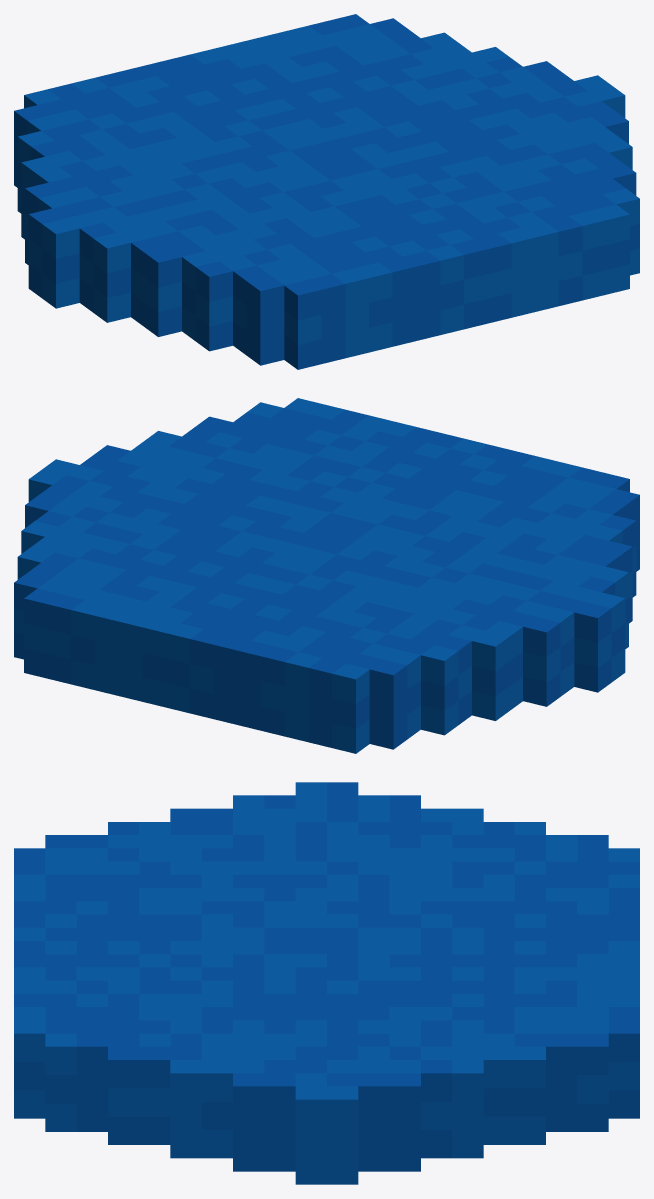
Rendered from overworld-38-ocean_3px.obj.
3 views of the same model, one above another, from view 1: azimuth 30°, elevation 25°; view 2: azimuth 150°, elevation 25°; view 3: azimuth 270°, elevation 25° (orthographic). The views are drawn at different scales.
Visible parts, largest first — view 1: ocean_3px; view 2: ocean_3px; view 3: ocean_3px.
Part boxes in pixels (<box>): ocean_3px: <box>14,14,639,369</box>; ocean_3px: <box>14,398,639,753</box>; ocean_3px: <box>14,782,639,1184</box>.
Bounding box in the file's own units: 2.4 × 0.3 × 2.
1 material, 1 textured.
